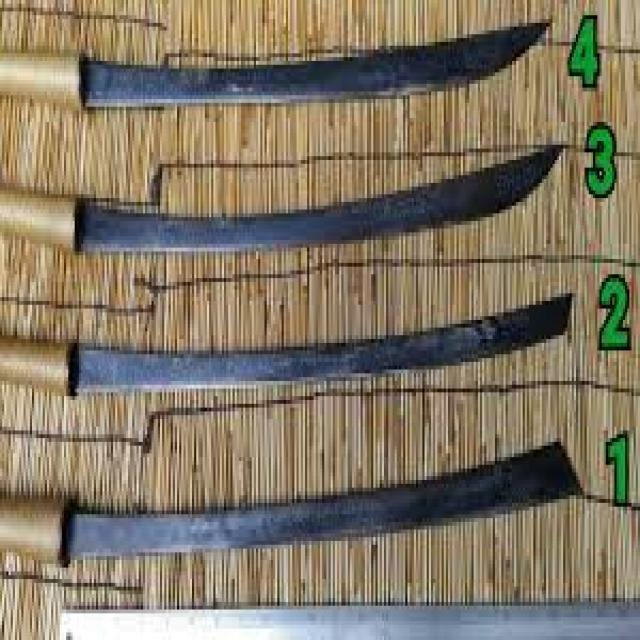long sword: (2, 438, 584, 562), (2, 284, 586, 407), (0, 140, 562, 260), (0, 10, 553, 114)
